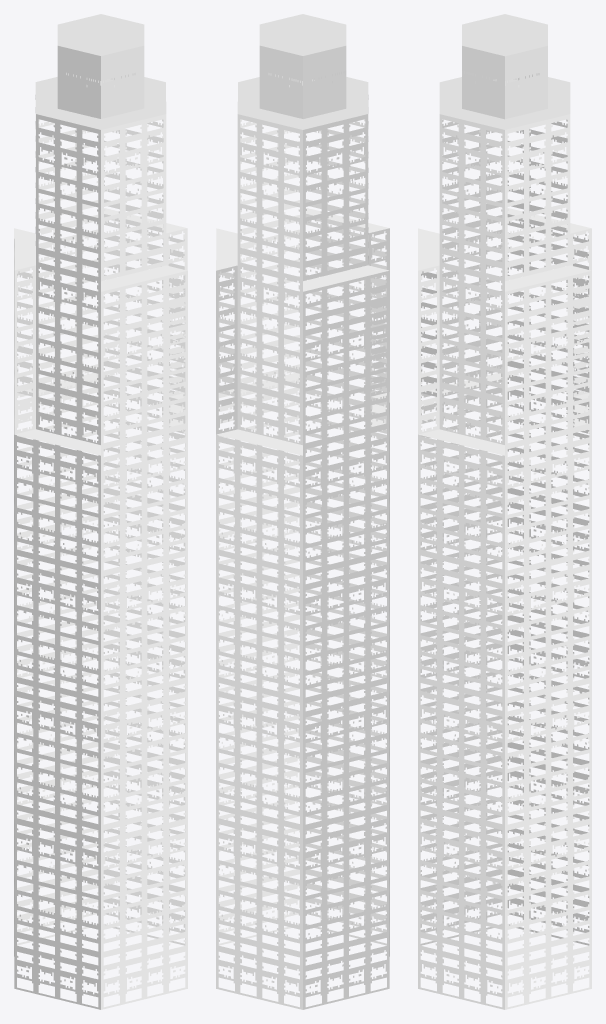
The model's file is uvmd-0147.glb.
The picture shows the model from 3 angles, left to right: view 1: azimuth 30°, elevation 25°; view 2: azimuth 150°, elevation 25°; view 3: azimuth 270°, elevation 25°; orthographic projection.
Visible parts, largest first — view 1: uvmd-0147; view 2: uvmd-0147; view 3: uvmd-0147.
Part boxes in pixels (x1,y1,x2,y2): uvmd-0147: [14, 14, 187, 1009]; uvmd-0147: [216, 14, 389, 1009]; uvmd-0147: [418, 14, 591, 1009].
Bounding box in the file's own units: 288 × 1479 × 250.
Materials: 3 (3 with a texture image).
